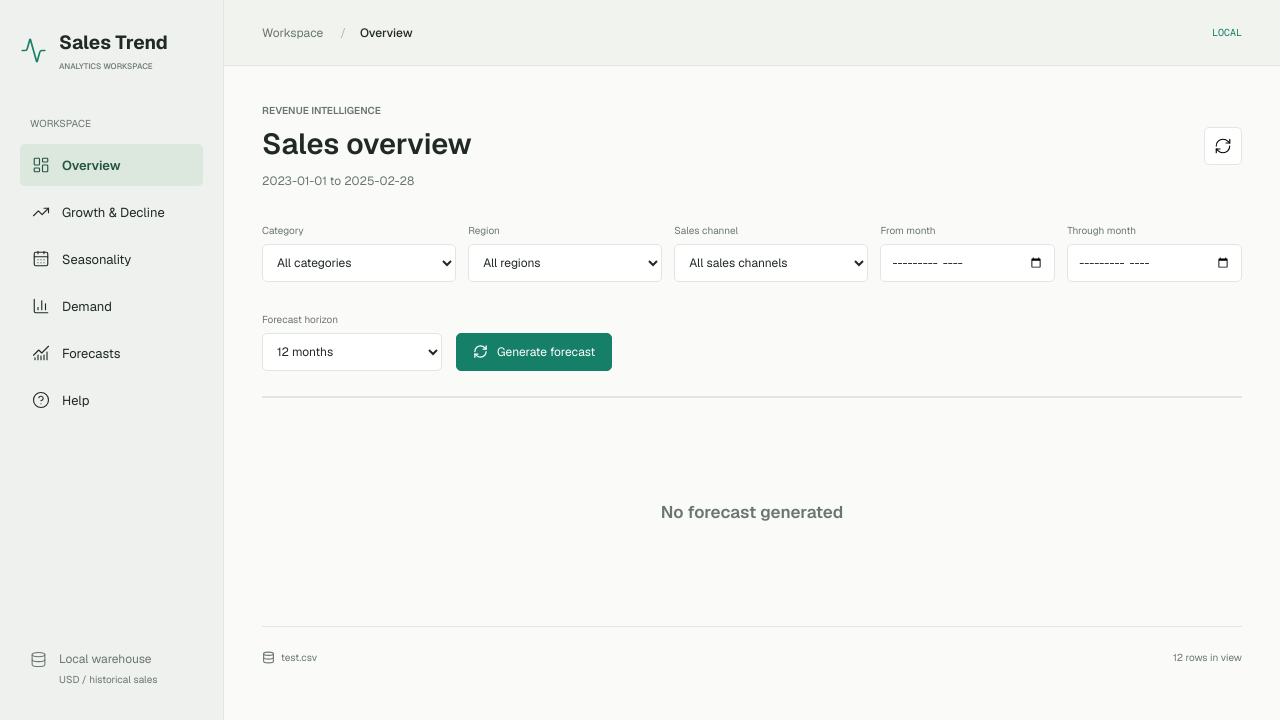
Test: generates a forecast explicitly and shows evaluation and partial-month caveats
Expected: the button "Generate forecast" is shown, [456,333,612,371]
Expected: the text "Forecast evaluation" is not shown
Select "3 months" in the dropdown labelled "Forecast horizon" at (352, 352), box [262,333,442,371]
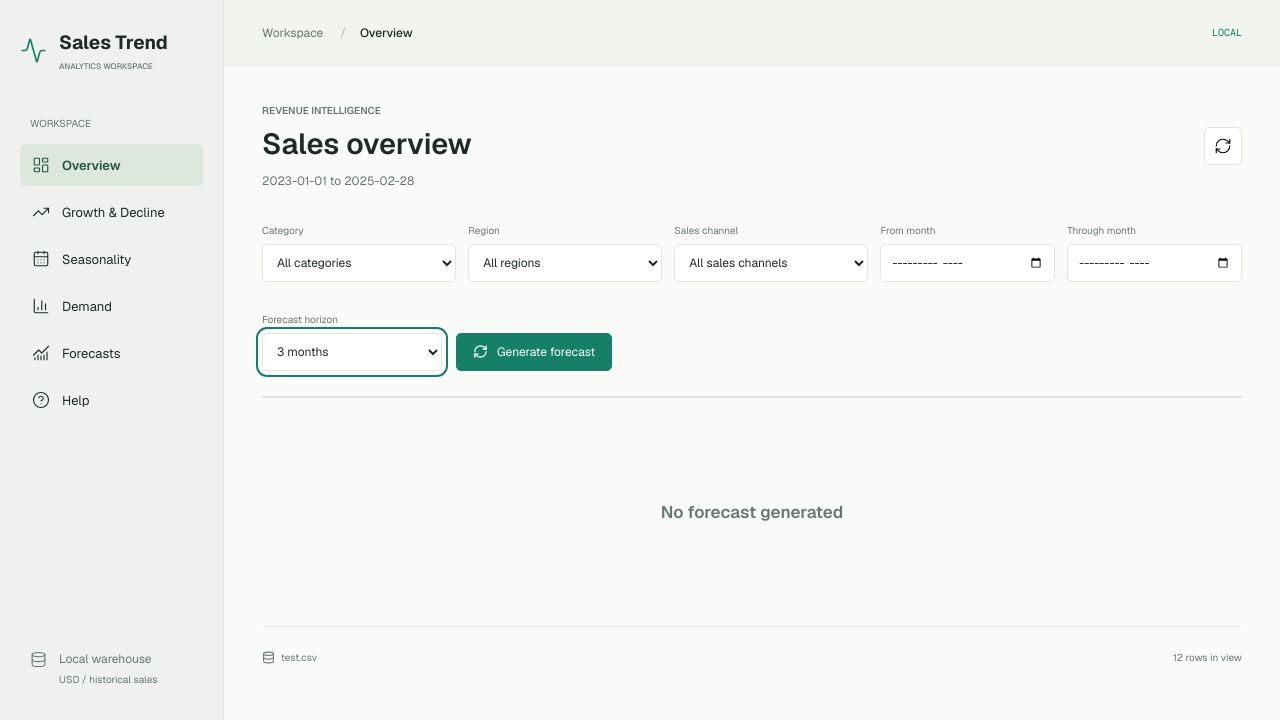
Click the button "Generate forecast" at (534, 352), box [456,333,612,371]
(page scrolled)
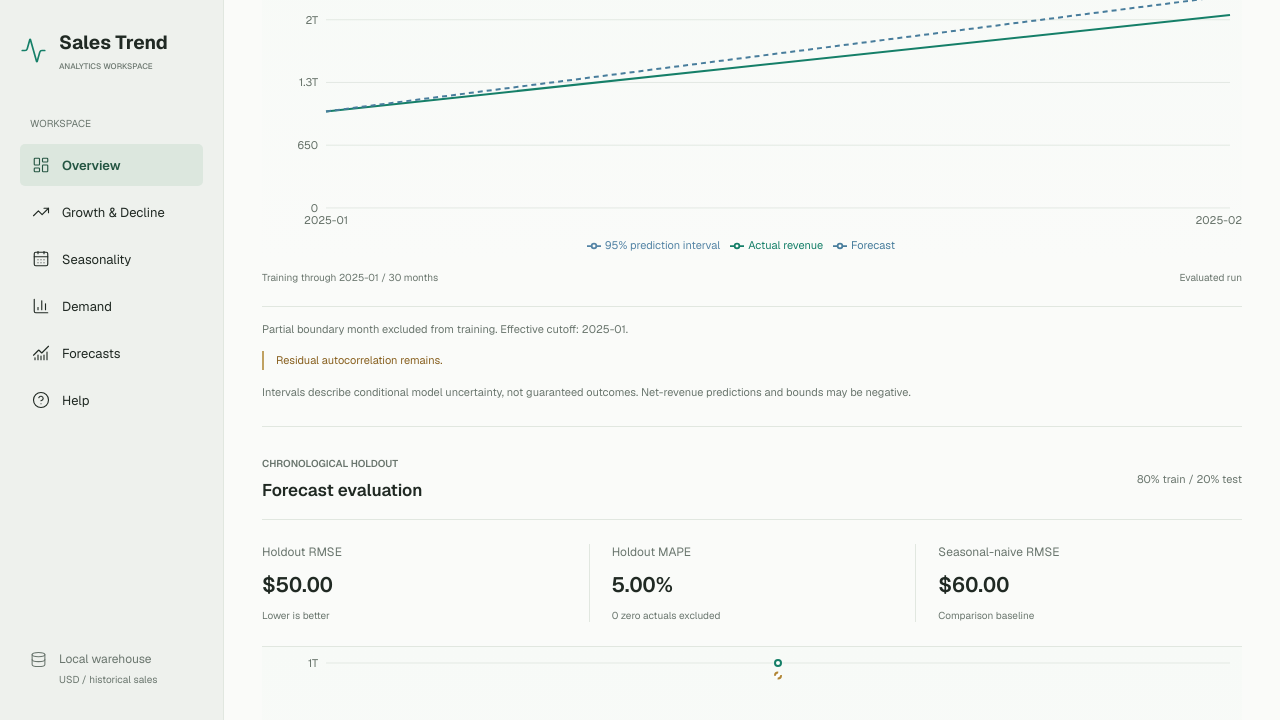
Now the heading "Forecast evaluation" is shown, box [262,479,422,501]
Now the text "Partial boundary month excluded" is shown, box [262,322,582,336]
Now the text "Residual autocorrelation remains." is shown, box [262,351,1112,370]
